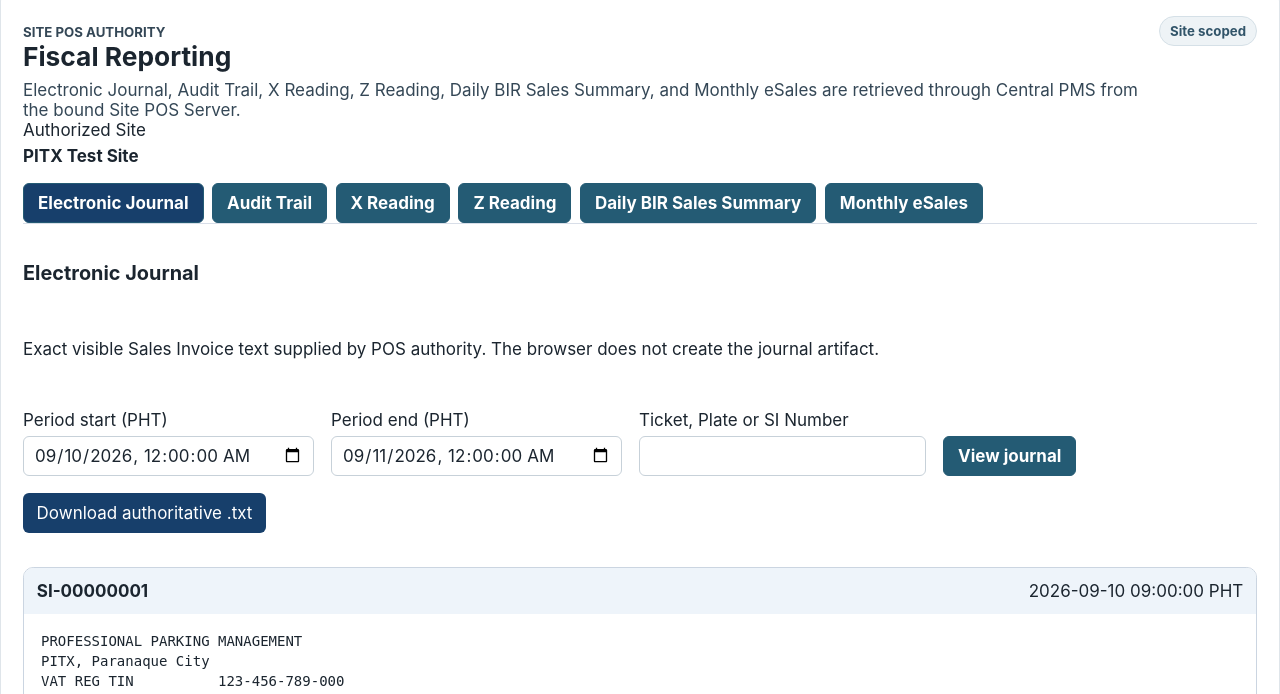
Operator Console fiscal reporting › warns without blocking close when the OPEN period has no committed X Reading
Click the tab "Z Reading". click: [515, 203]
box: [458,183,572,223]
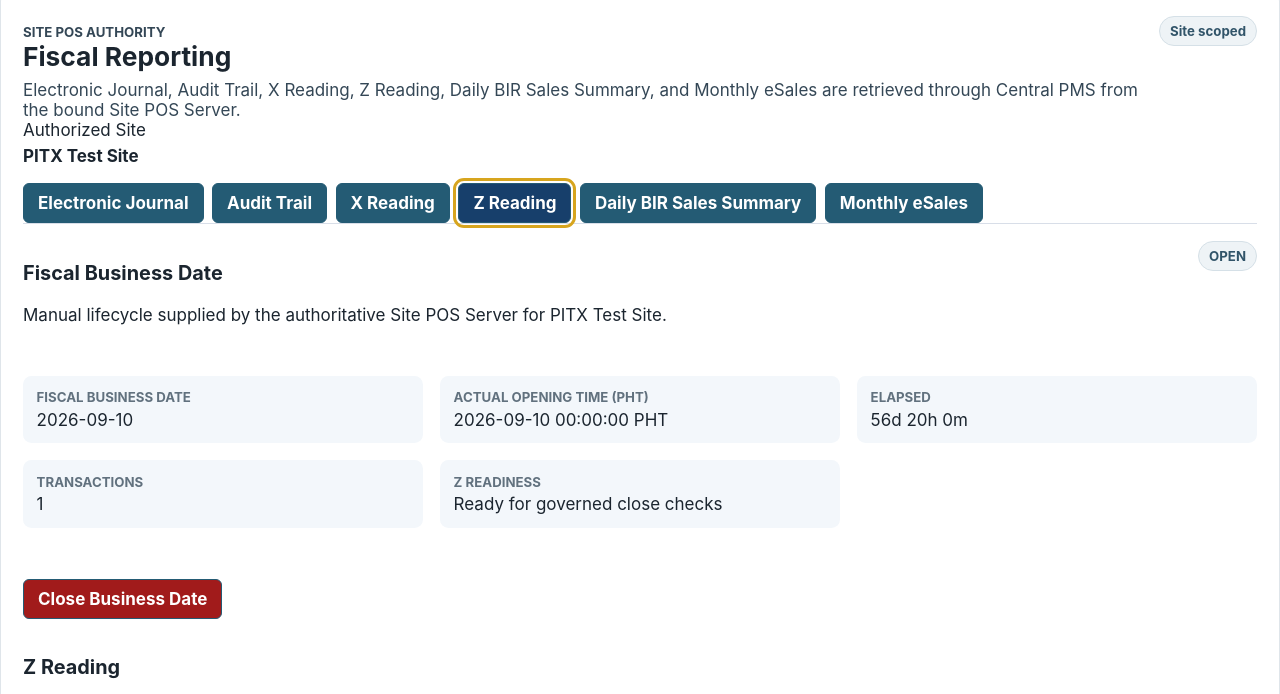
Click the button "Close Business Date". click: [123, 599]
box: [23,579,222,619]
(page scrolled)
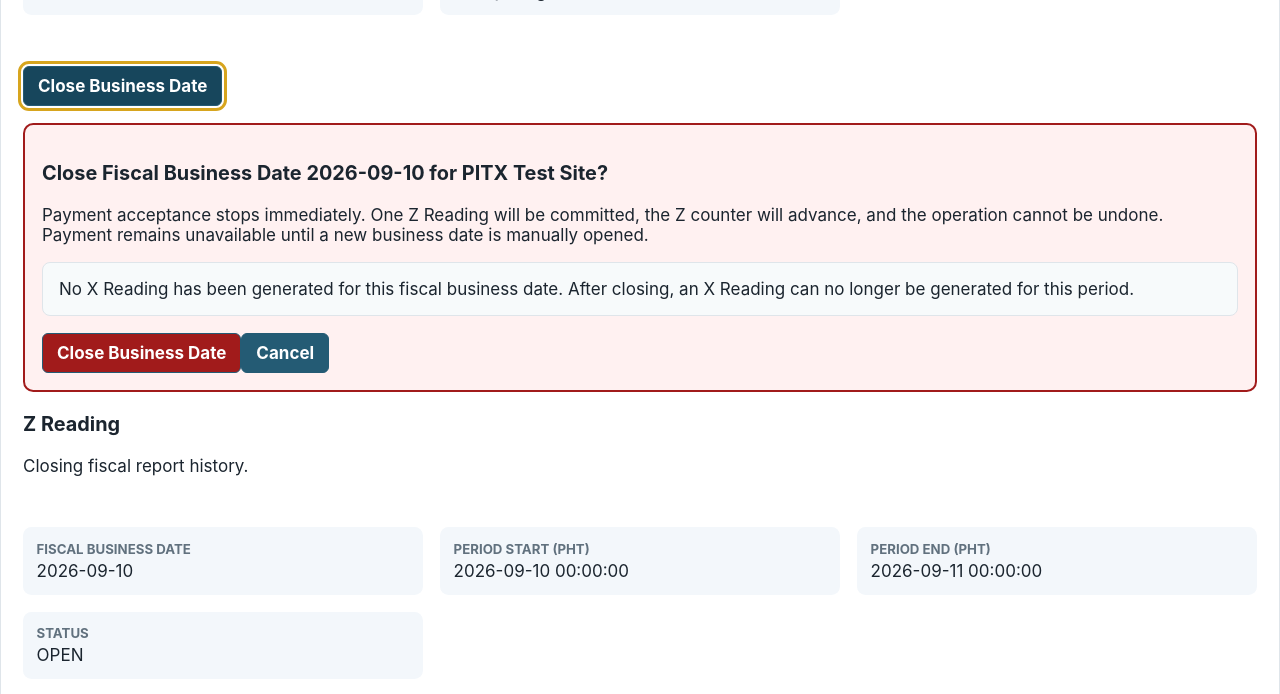
Expected: the text "No X Reading has been generated for this fiscal business date. After closing, an X Reading can no longer be generated fo" is shown, [59,279,1134,299]
Expected: the 2nd button with class "dangerButton" is enabled, [42,333,241,373]
